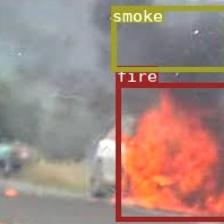fire: (114, 82, 224, 220)
smoke: (110, 5, 224, 70)
